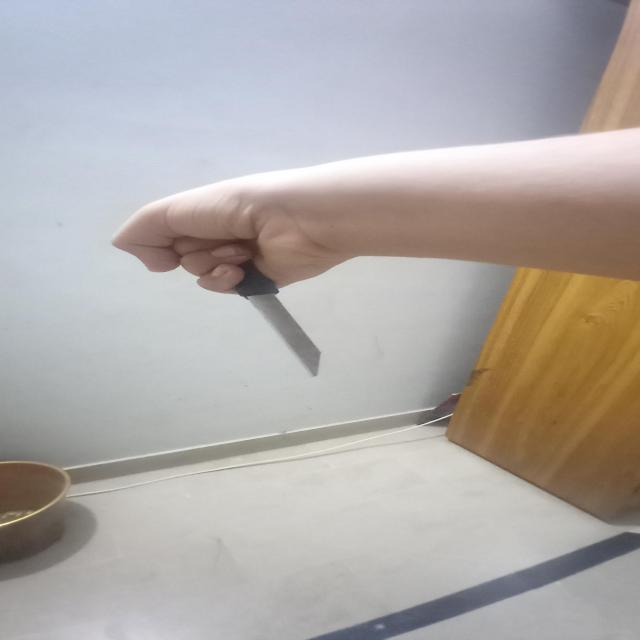Knife: (232, 261, 324, 377)
Person: (111, 127, 640, 293)
